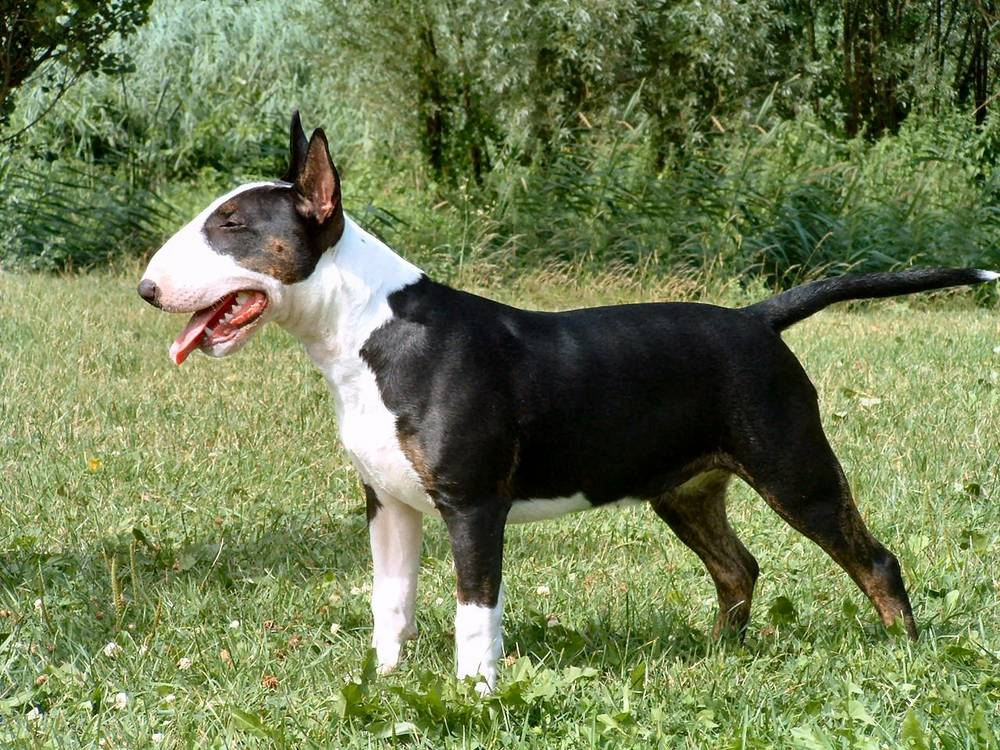bull_terrier: (136, 108, 1000, 709)
